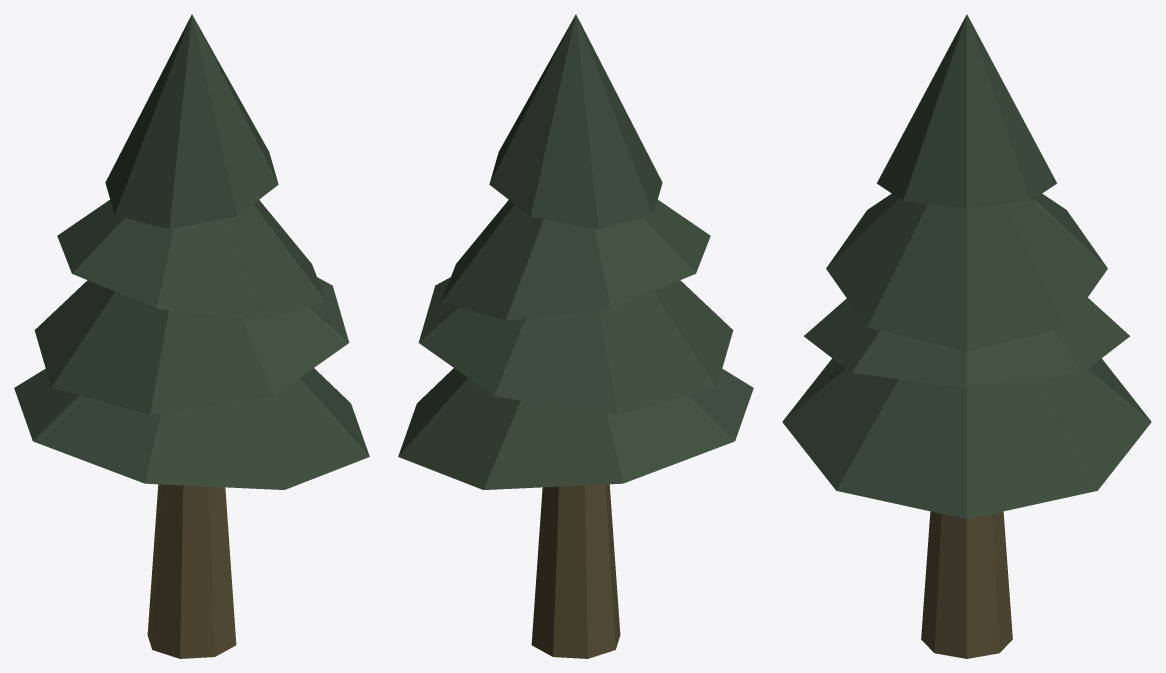
File: Arbol con hojas 3.fbx
3 renders of one model, left to right at view 1: azimuth 30°, elevation 25°; view 2: azimuth 150°, elevation 25°; view 3: azimuth 270°, elevation 25°, orthographic.
Visible parts, largest first — view 1: Arbol_con_hojas_3; view 2: Arbol_con_hojas_3; view 3: Arbol_con_hojas_3.
Part boxes in pixels (x1=…): Arbol_con_hojas_3: x1=14, y1=14, x2=369, y2=658; Arbol_con_hojas_3: x1=398, y1=14, x2=753, y2=658; Arbol_con_hojas_3: x1=782, y1=14, x2=1151, y2=658.
Bounding box in the file's own units: 7.91 × 14.89 × 7.97.
